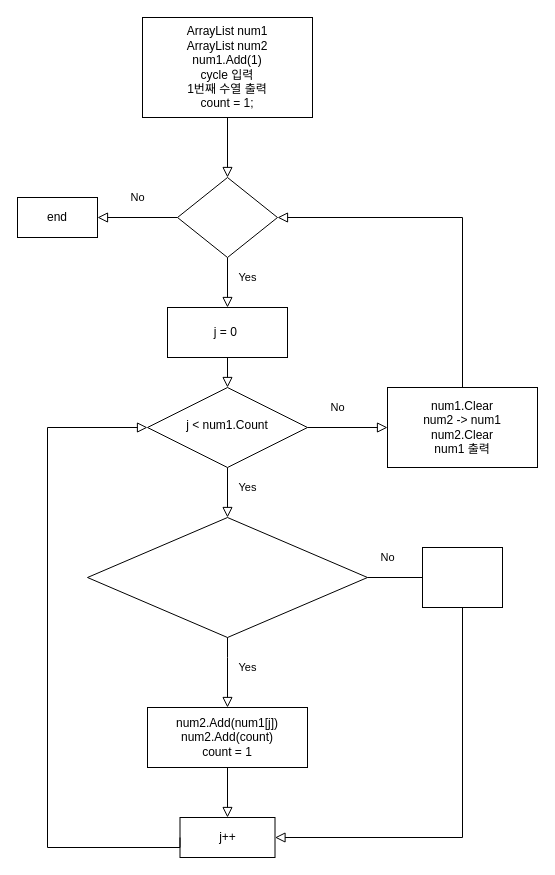
The diagram is 555 pixels wide and 875 high, and some of its shapes have lost their labels. Here are the shapes that lost their labels. From the top down, the centre of each, then its label:
point 227,217: i < cycle - 1
point 227,577: j < num1.Count - 1 && (int)num1[j] == (int)num1[j+1]
point 462,577: count++
